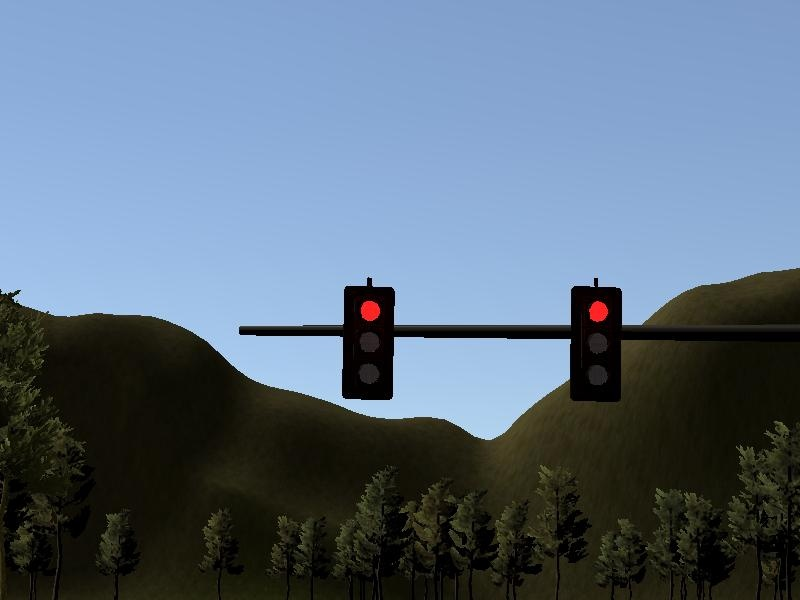red: (343, 282, 393, 402), (571, 288, 621, 408)
